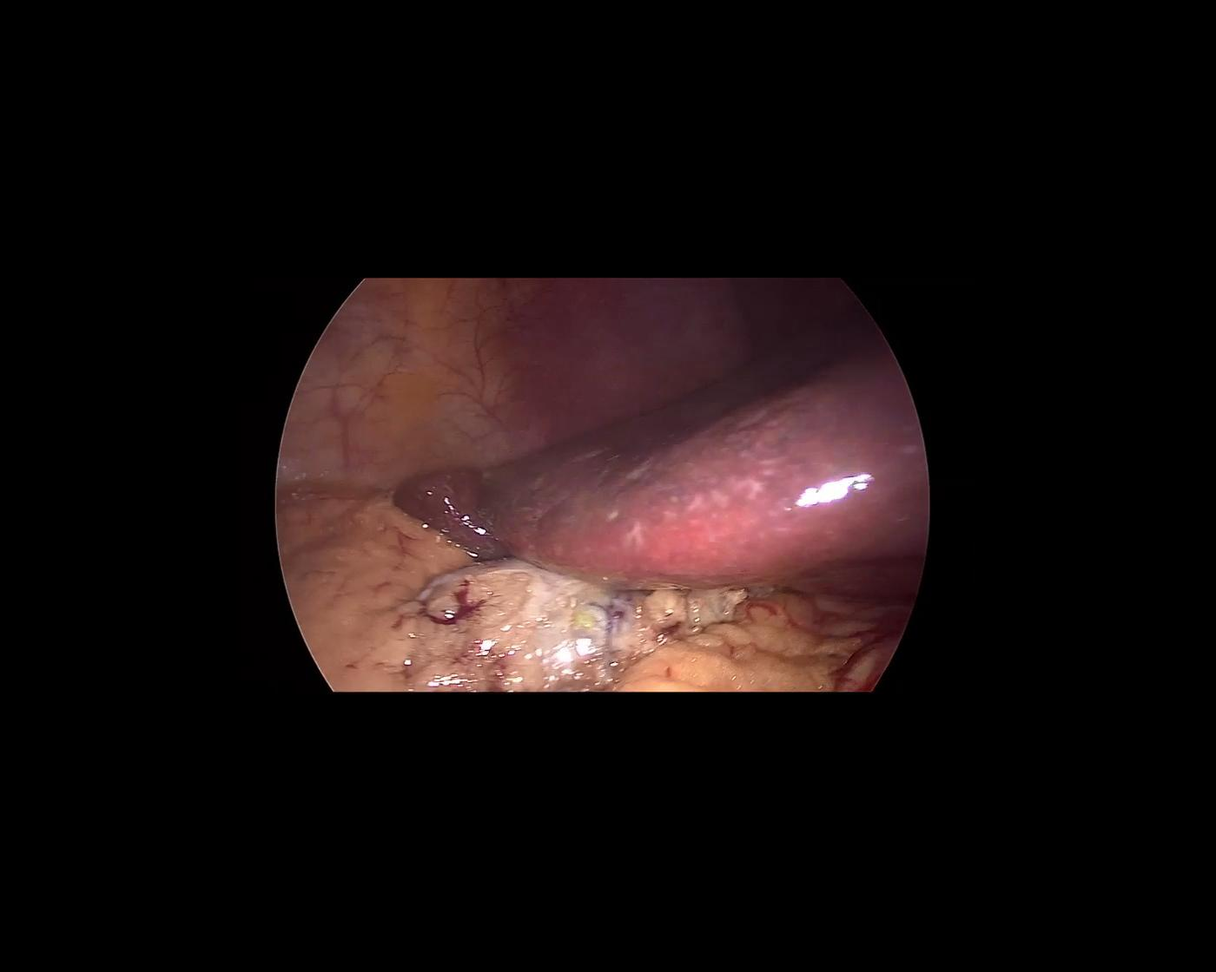Gallbladder: (408, 556, 767, 693)
Liver: (383, 327, 954, 705)
